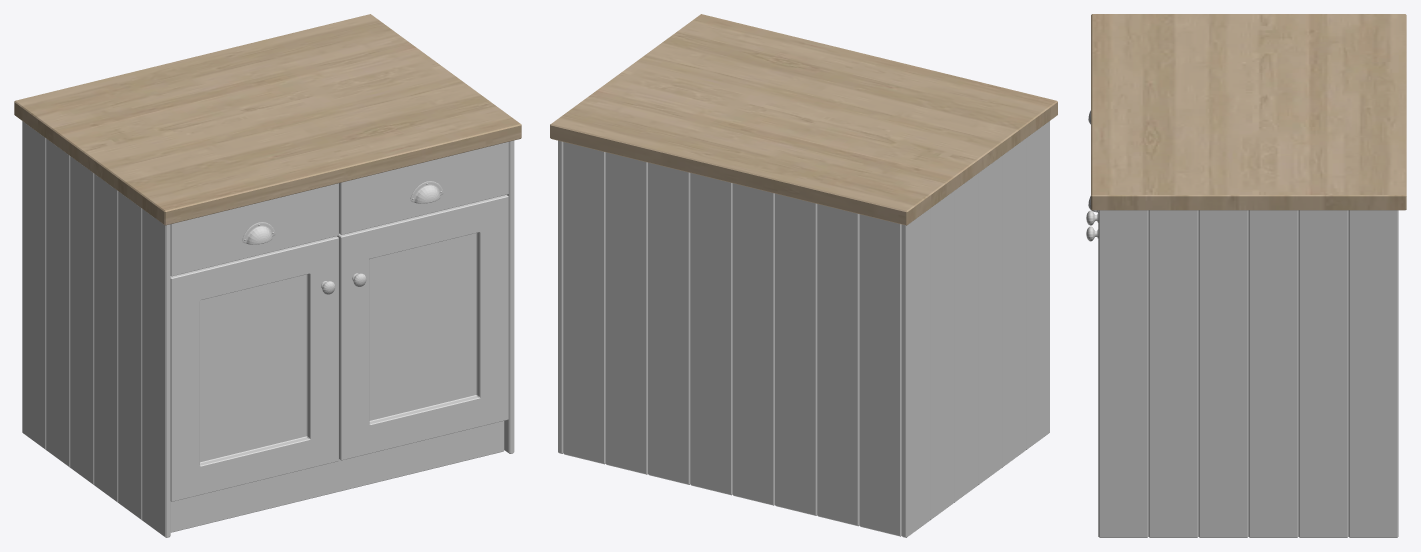
File: by-kitchenisland.glb
3 views of the same model, side by side, from view 1: azimuth 30°, elevation 25°; view 2: azimuth 150°, elevation 25°; view 3: azimuth 270°, elevation 25° (orthographic). The views are drawn at different scales.
Parts seen in each view (by area): view 1: Cube.050_Cube.029, Worktop-Island_Cube.052, Island-Panel3_Cube.054, Island-base-trim_Cube.023, Island-Panel1_Cube.053, Cup-Handle-Island_Sphere.011; view 2: Island-Panel2_Cube.055, Worktop-Island_Cube.052, Island-Panel3_Cube.054, Island-Panel1_Cube.053; view 3: Island-Panel1_Cube.053, Worktop-Island_Cube.052.
Part boxes in pixels (x1,y1,x2,y2): Cube.050_Cube.029: (170,142,508,501); Worktop-Island_Cube.052: (14,14,521,225); Island-Panel3_Cube.054: (22,121,170,537); Island-base-trim_Cube.023: (170,421,504,532); Island-Panel1_Cube.053: (504,140,514,453); Cup-Handle-Island_Sphere.011: (242,181,443,244); Island-Panel2_Cube.055: (563,142,901,536); Worktop-Island_Cube.052: (550,14,1057,225); Island-Panel3_Cube.054: (901,121,1049,537); Island-Panel1_Cube.053: (558,140,563,453); Island-Panel1_Cube.053: (1098,210,1398,537); Worktop-Island_Cube.052: (1091,14,1406,210).
Size of the model in its own units: 0.939 by 0.831 by 0.699.
Materials: 3 (1 with a texture image).
